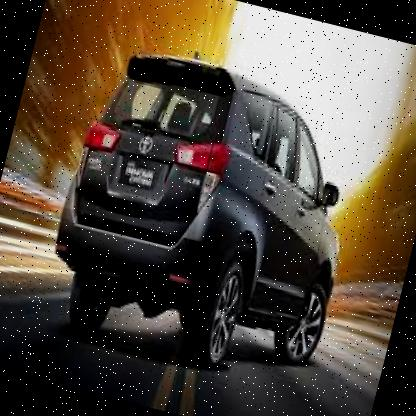car: (20, 25, 391, 401)
